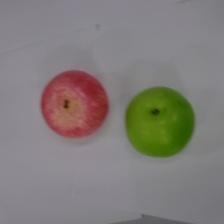green: (124, 85, 194, 158)
red: (40, 68, 110, 140)
